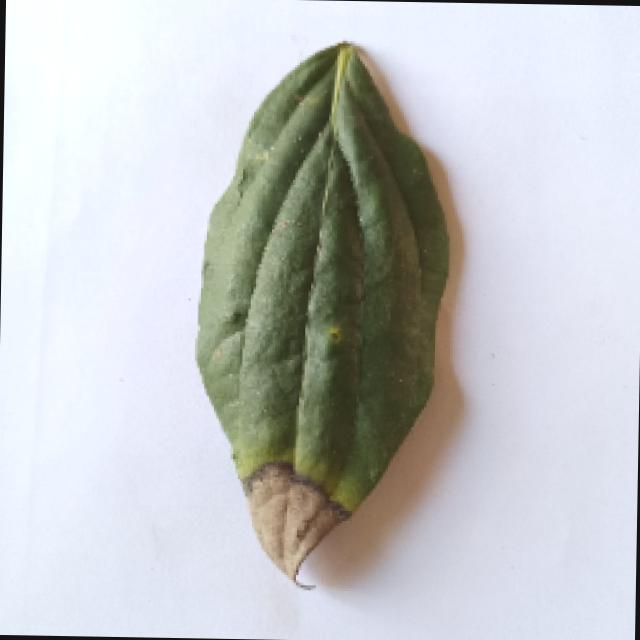footrot: (190, 45, 464, 590)
